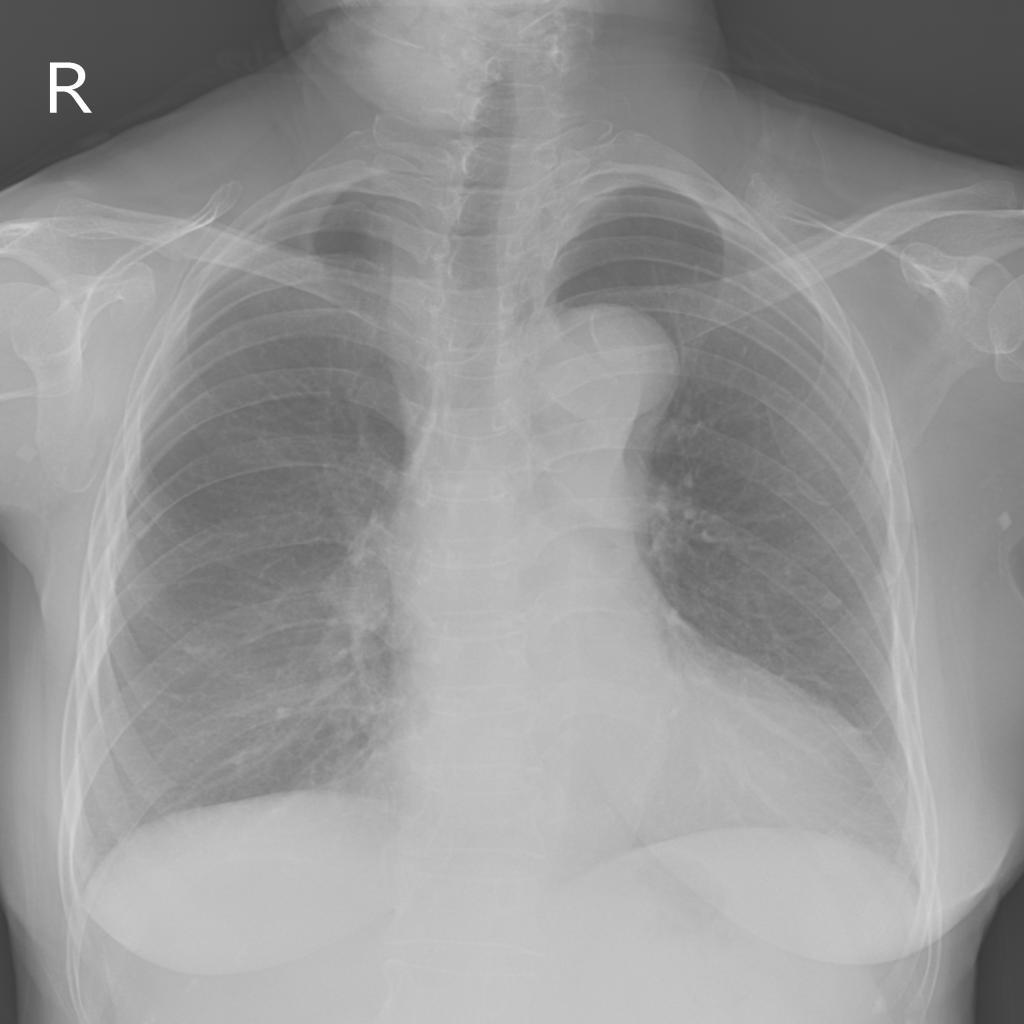Nodule: (821, 588, 844, 612)
